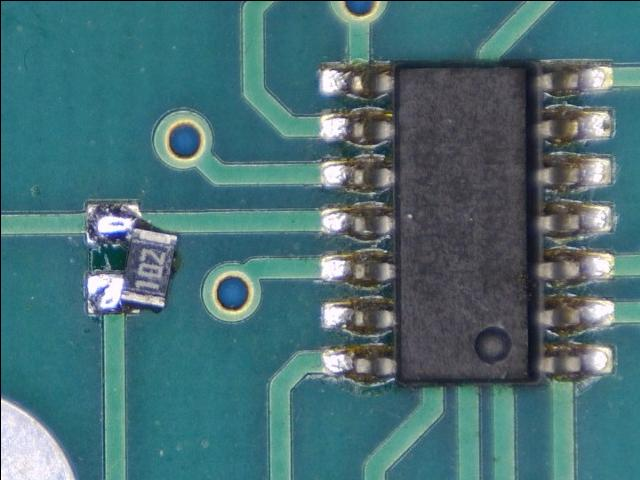Incorrect_installation: (85, 198, 179, 317)
